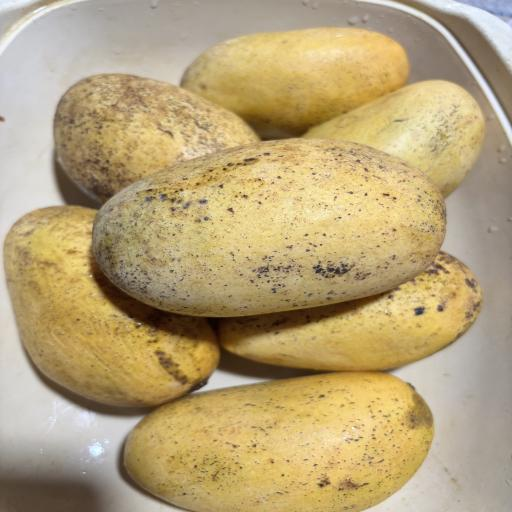fruit: (85, 135, 462, 323), (111, 359, 463, 512), (4, 190, 227, 415), (186, 232, 486, 378), (32, 66, 275, 204), (304, 62, 497, 203), (180, 16, 414, 128)
